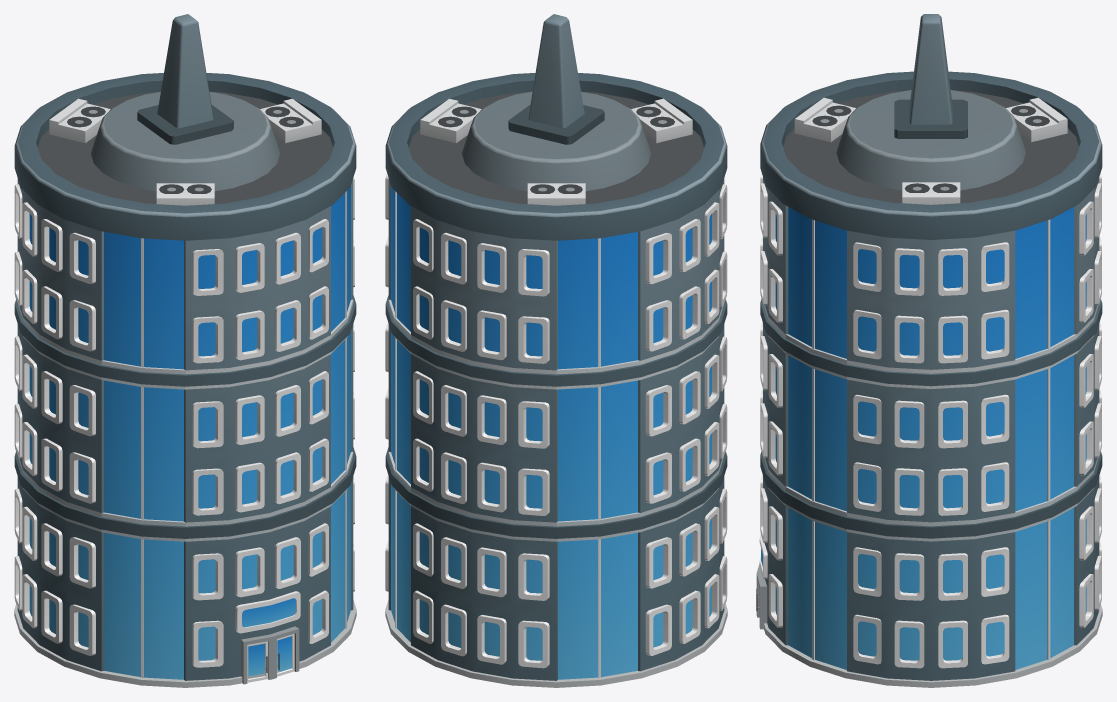
Rendered from elite_residental_building_002.glb.
3 renders of one model, left to right at view 1: azimuth 30°, elevation 25°; view 2: azimuth 150°, elevation 25°; view 3: azimuth 270°, elevation 25°, orthographic.
Parts seen in each view (by area): view 1: elite_residental_building_002; view 2: elite_residental_building_002; view 3: elite_residental_building_002.
Boxes of the visible parts, box(x1,y1,x2,y2) form: elite_residental_building_002: box(14, 14, 356, 687); elite_residental_building_002: box(385, 14, 727, 687); elite_residental_building_002: box(756, 14, 1102, 687).
Size of the model in its own units: 17.54 by 33.76 by 17.72.
2 materials, 2 textured.
